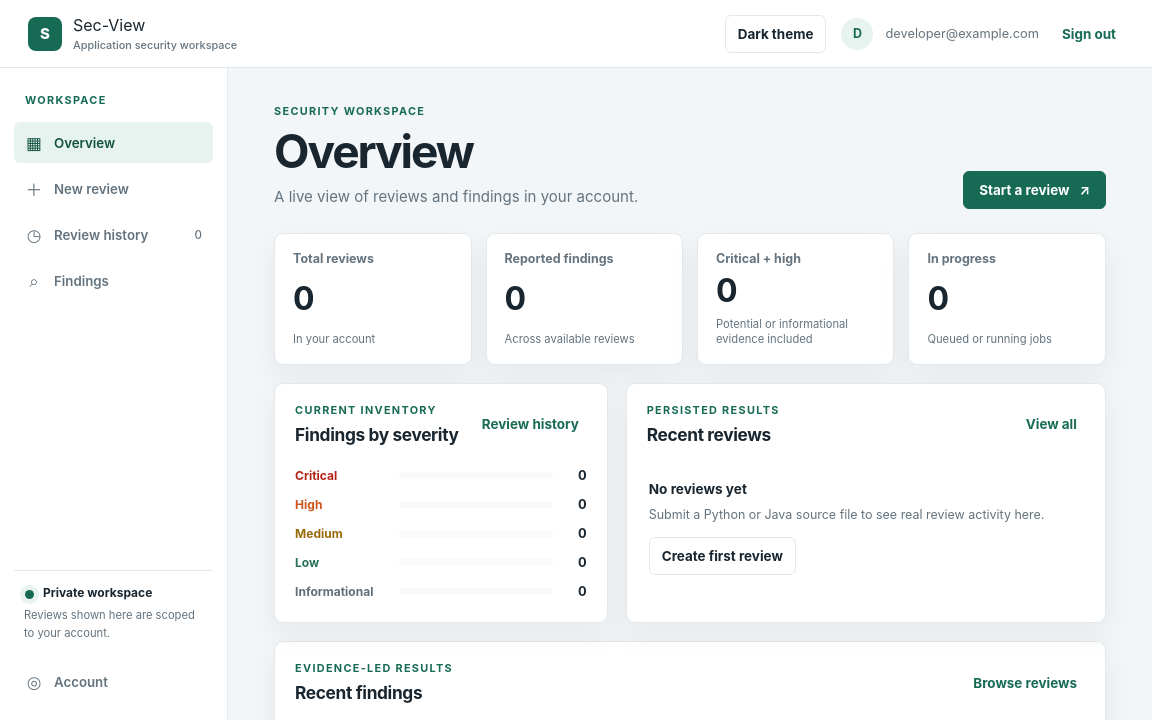
Scenario: review workspace sections › renders deterministic findings and explicit AI-unavailable coverage
Expected: the heading "Overview" is shown, [274,123,473,179]
Click the button "＋ New review".
click(114, 188)  # box [14,168,213,209]
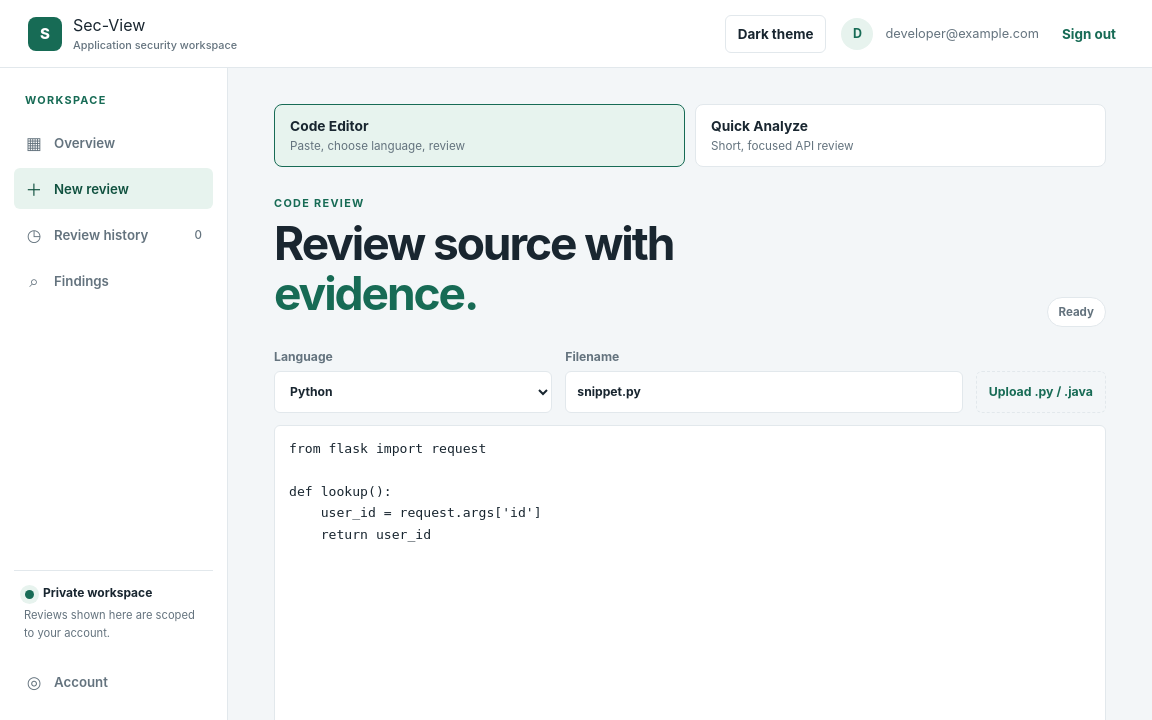
Click the button "Quick Analyze Short, focused API review".
click(760, 126)  # box [695,104,1106,167]
(page scrolled)
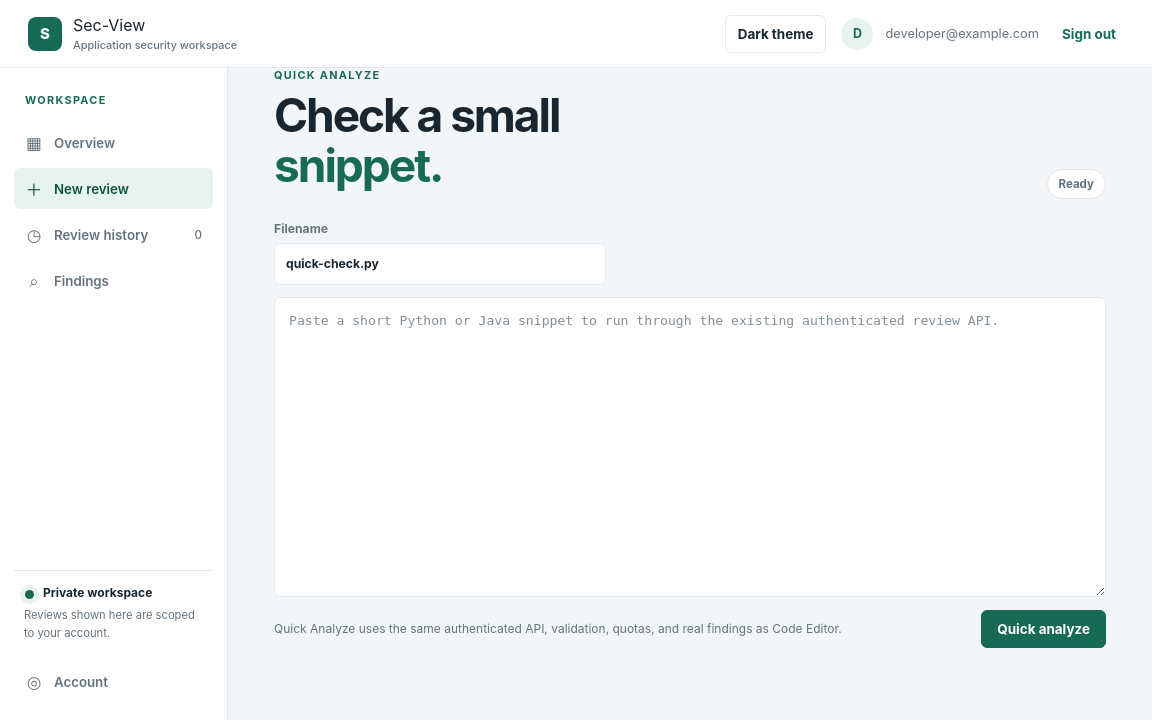
Replace the text in the text box named "Quick Analyze source code" with "cursor.execute(query)" at (690, 446), box [274,296,1106,596]
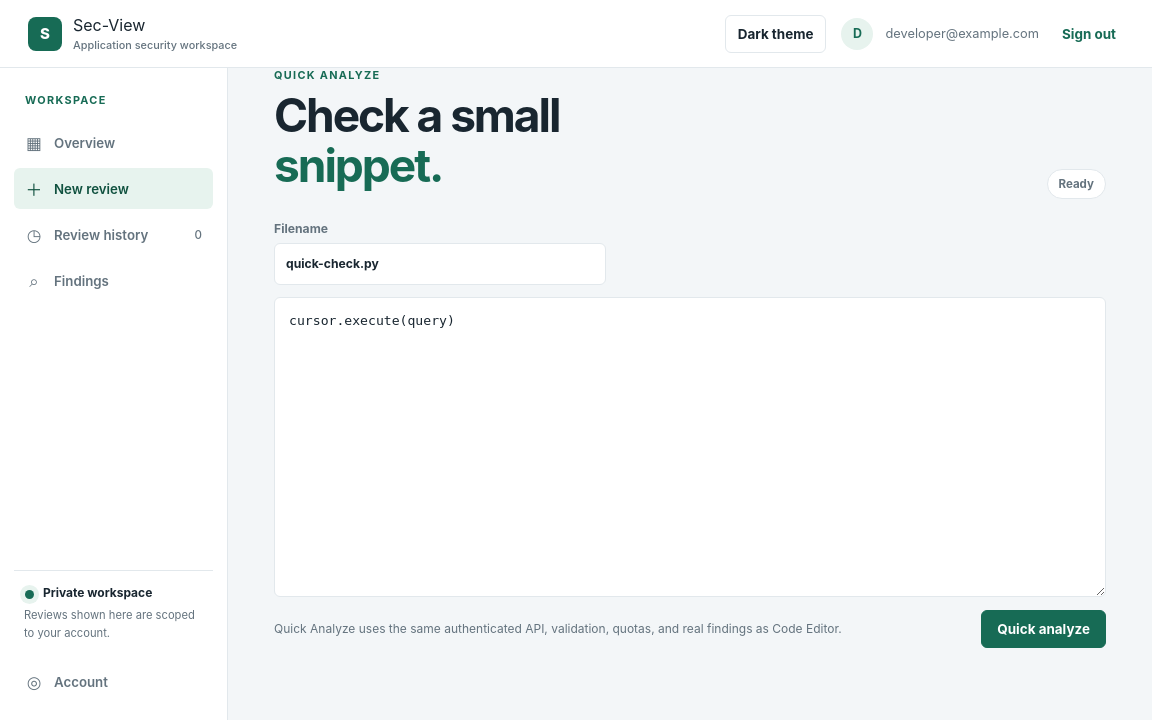
Click the button "Quick analyze".
click(1044, 628)  # box [981,610,1106,648]
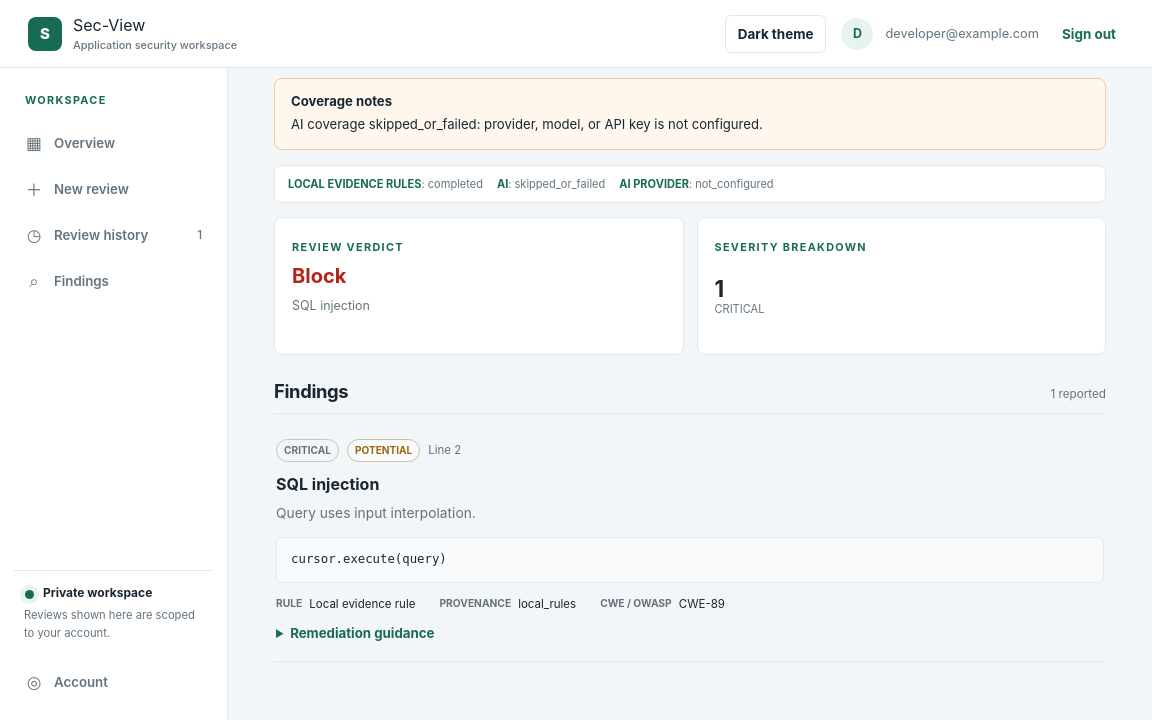
Result: the heading "SQL injection" is shown at [276,474,379,494]
Result: the text "provider, model, or API key is not configured" is shown at [291,116,763,132]
Result: the element named "Analysis coverage" shows "ai: skipped_or_failed" at [274,165,1106,203]
